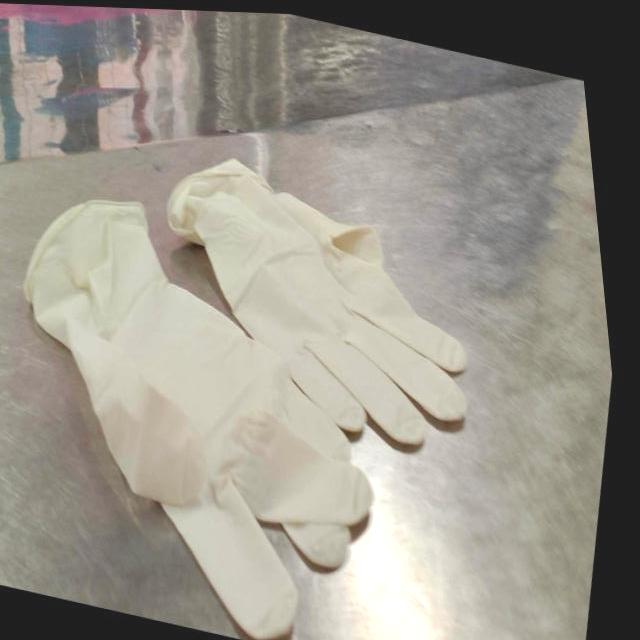General: (21, 156, 470, 638)
Infectious: (164, 157, 468, 454)
